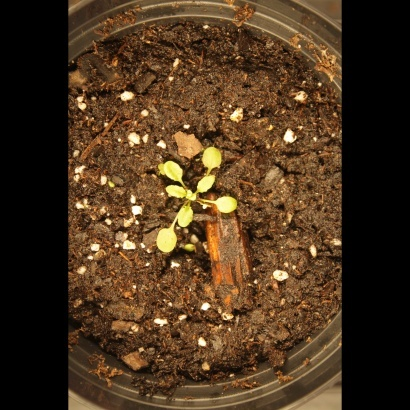leaf: (197, 139, 229, 173), (211, 190, 244, 219), (161, 158, 191, 186), (153, 225, 179, 257), (168, 201, 195, 230), (193, 172, 222, 195), (163, 182, 186, 205), (183, 181, 206, 204)
